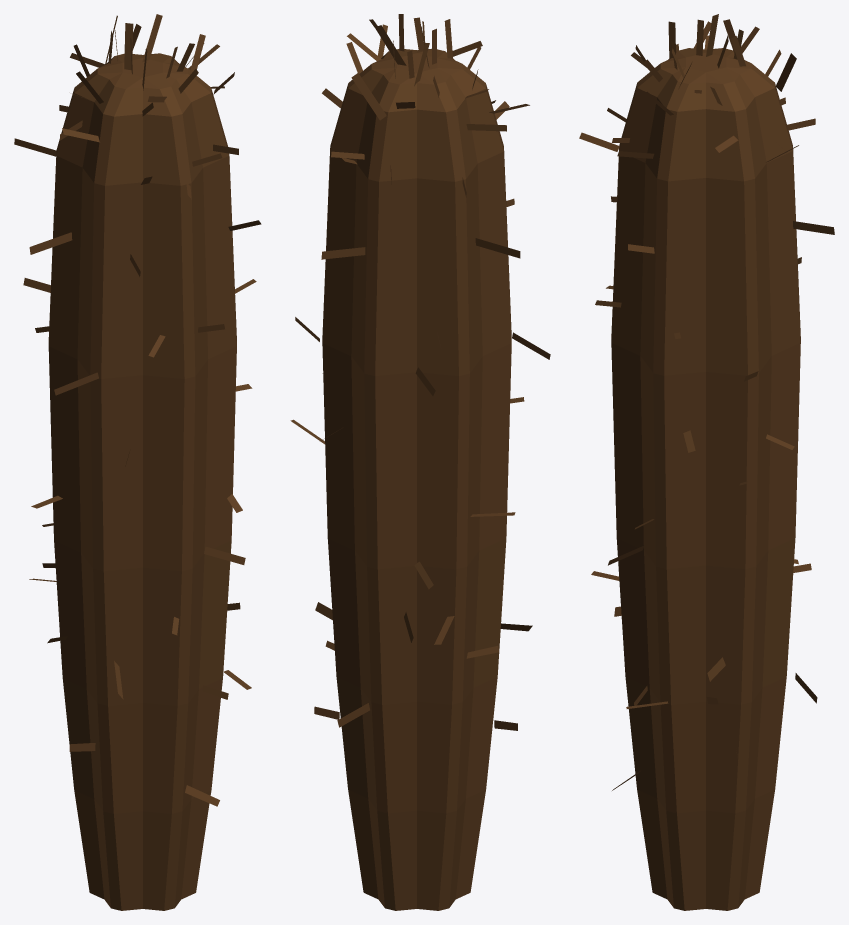
Rendered from SM_Succulent_Cactus_Tall_Sapling_B.fbx.
3 views of the same model, side by side, from view 1: azimuth 30°, elevation 25°; view 2: azimuth 150°, elevation 25°; view 3: azimuth 270°, elevation 25° (orthographic).
Visible parts, largest first — view 1: succulent-cactus-tall-sapling-b; view 2: succulent-cactus-tall-sapling-b; view 3: succulent-cactus-tall-sapling-b.
Part boxes in pixels (x1,y1,x2,y2): succulent-cactus-tall-sapling-b: (14,14,261,910); succulent-cactus-tall-sapling-b: (290,14,550,910); succulent-cactus-tall-sapling-b: (579,14,834,910).
Bounding box in the file's own units: 0.2313 × 0.8808 × 0.2345.
